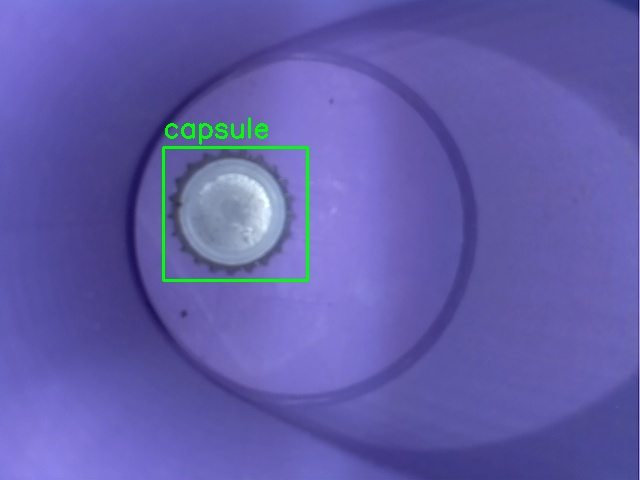capsule: (163, 147, 307, 280)
